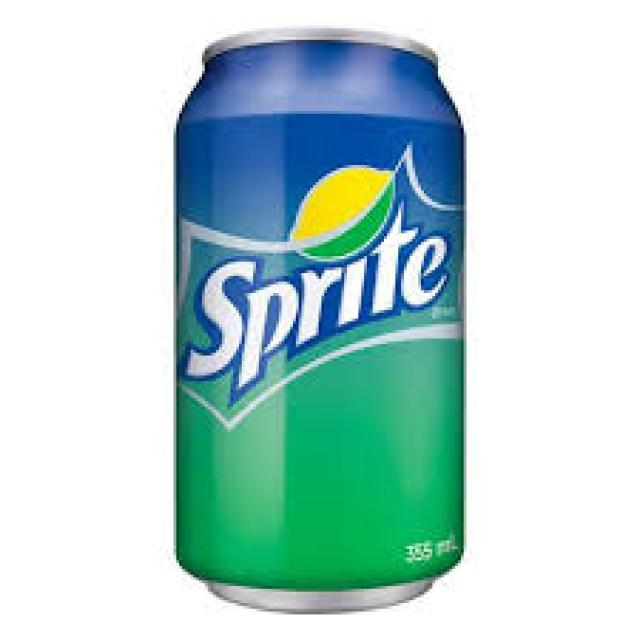aluminum_can: (176, 31, 466, 613)
